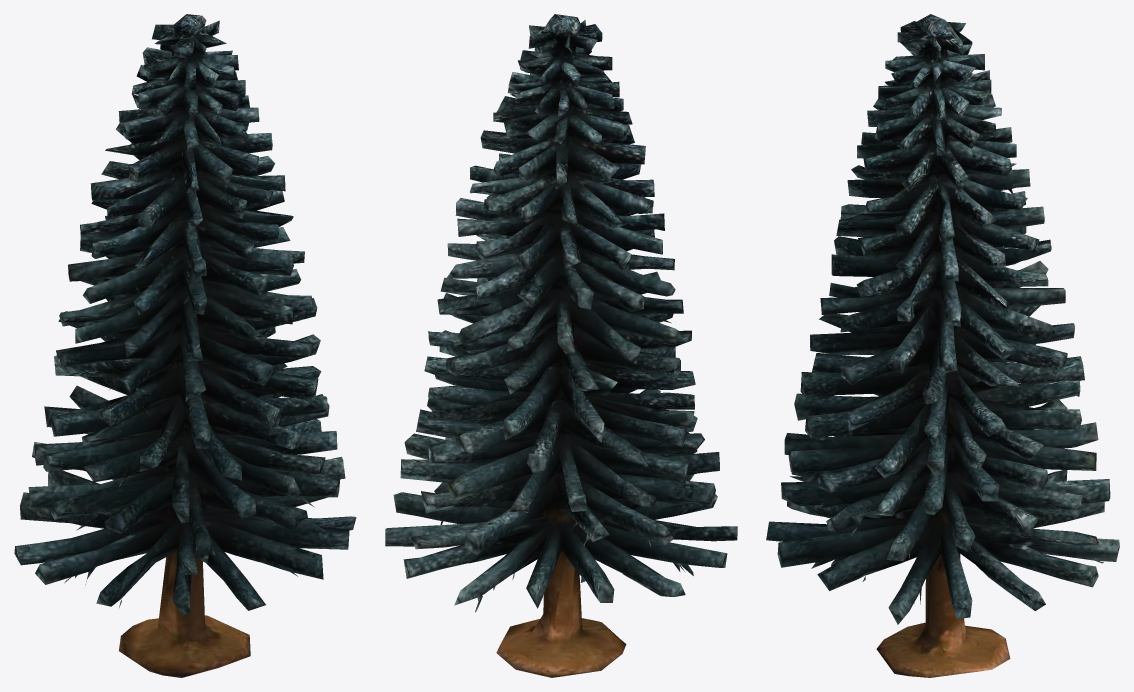
The model's file is pine-2.glb.
3 renders of one model, left to right at view 1: azimuth 30°, elevation 25°; view 2: azimuth 150°, elevation 25°; view 3: azimuth 270°, elevation 25°, orthographic.
Parts seen in each view (by area): view 1: tripo_node_859d2dc7-e261-4313-802d-bedab812ec3c; view 2: tripo_node_859d2dc7-e261-4313-802d-bedab812ec3c; view 3: tripo_node_859d2dc7-e261-4313-802d-bedab812ec3c.
Boxes of the visible parts, <box> form: tripo_node_859d2dc7-e261-4313-802d-bedab812ec3c: <box>14,14,356,677</box>; tripo_node_859d2dc7-e261-4313-802d-bedab812ec3c: <box>385,14,737,677</box>; tripo_node_859d2dc7-e261-4313-802d-bedab812ec3c: <box>766,14,1119,677</box>.
Bounding box in the file's own units: 0.5033 × 0.9896 × 0.4952.
1 material, 1 textured.
